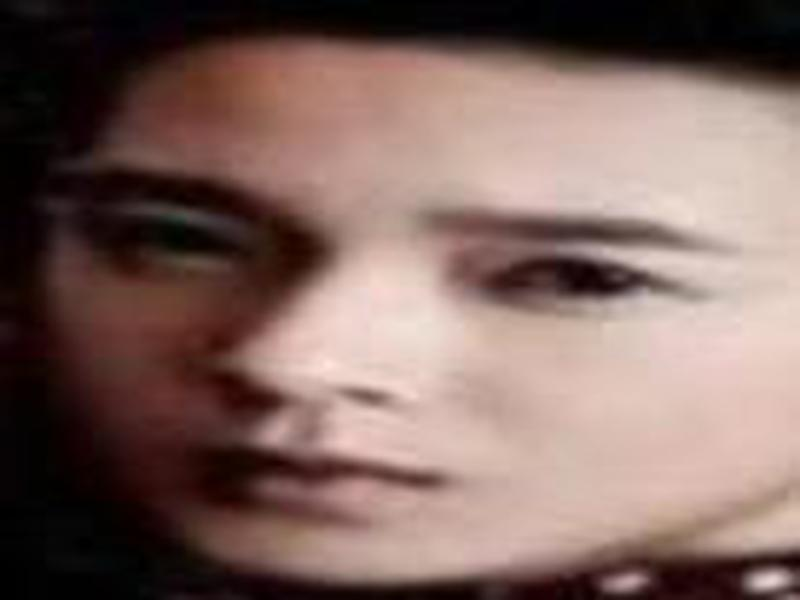without_mask: (49, 33, 800, 589)
